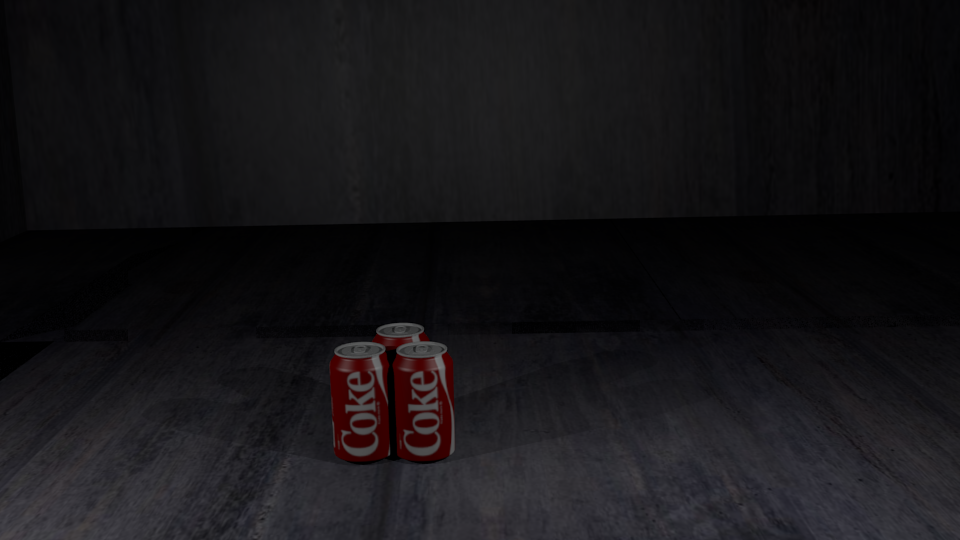cola_can: (330, 342, 392, 458), (392, 342, 453, 457), (372, 323, 429, 433)
